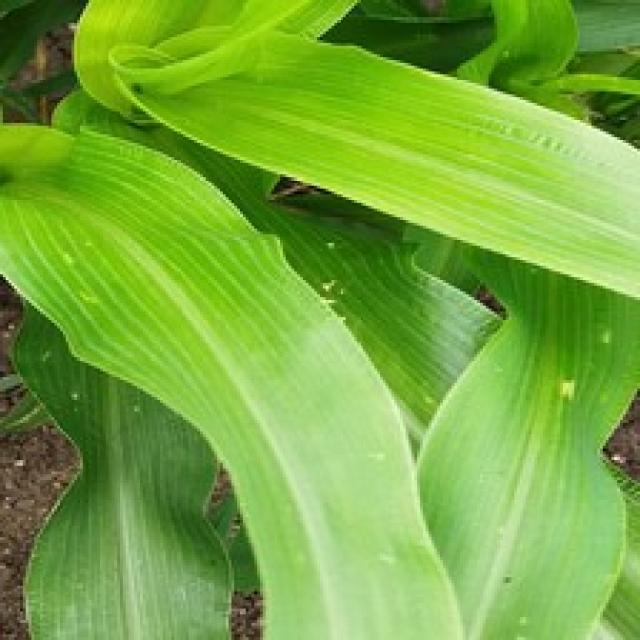Corn: (0, 0, 637, 637), (109, 20, 637, 326), (412, 237, 637, 637), (9, 294, 234, 637)
